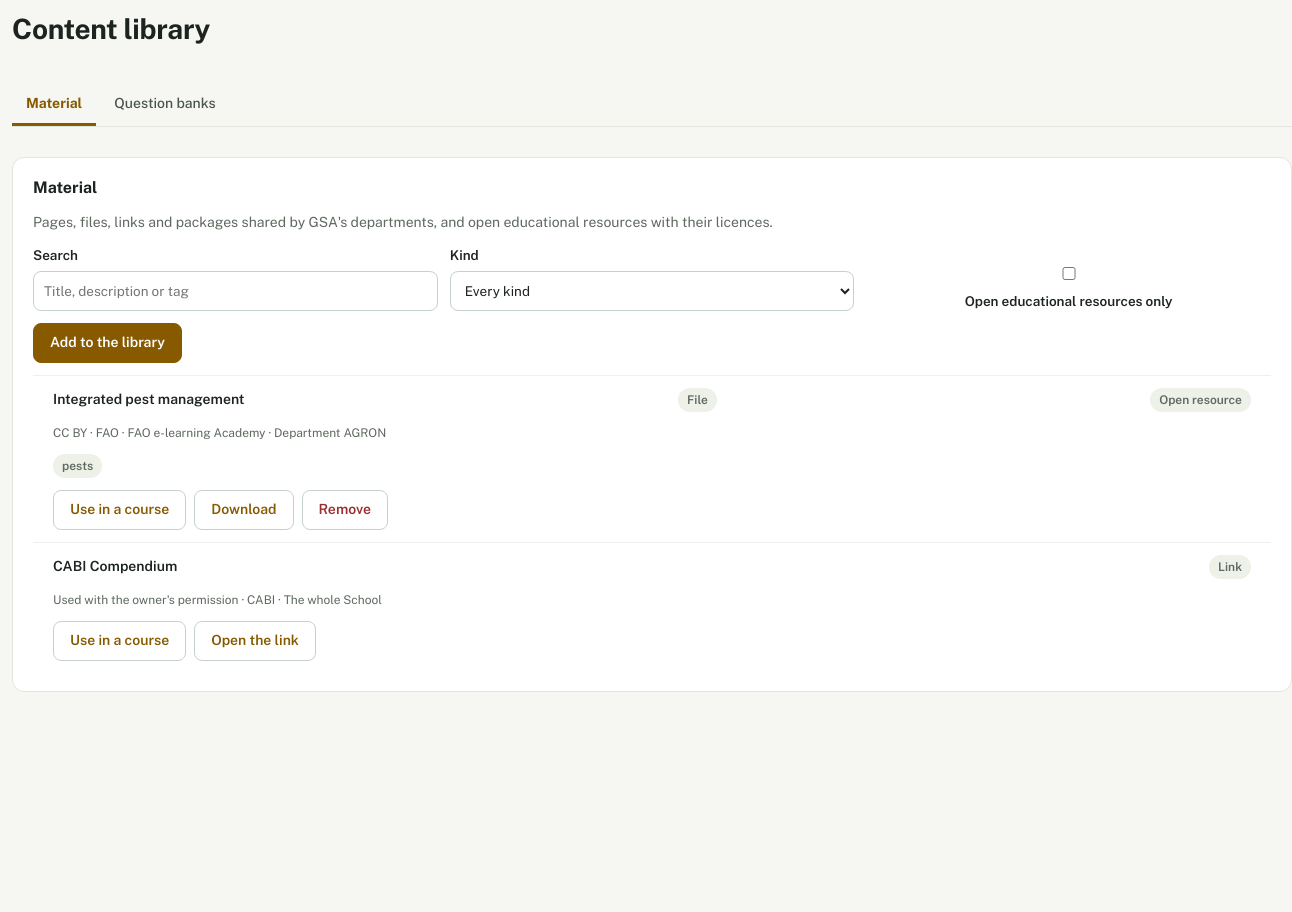
the content library (item 5.14) › removes an item the person may change
The image size is (1292, 912).
Click the button with aria-label "Remove “Integrated pest management” from the library": (345,510) 302,490 -> 388,530
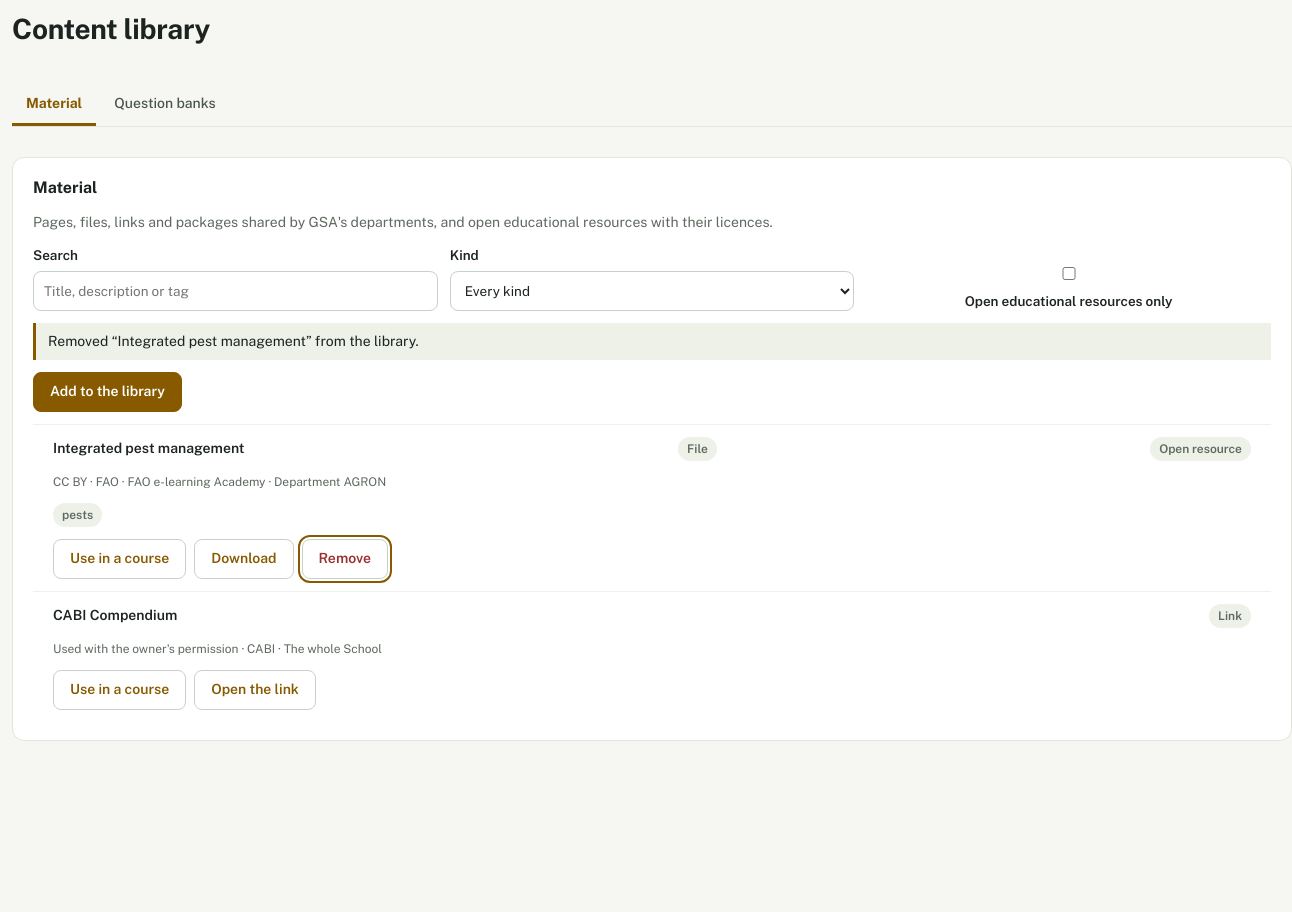
Now the text "Removed “Integrated pest management” from the library." is shown, box 33,323 -> 1271,360
